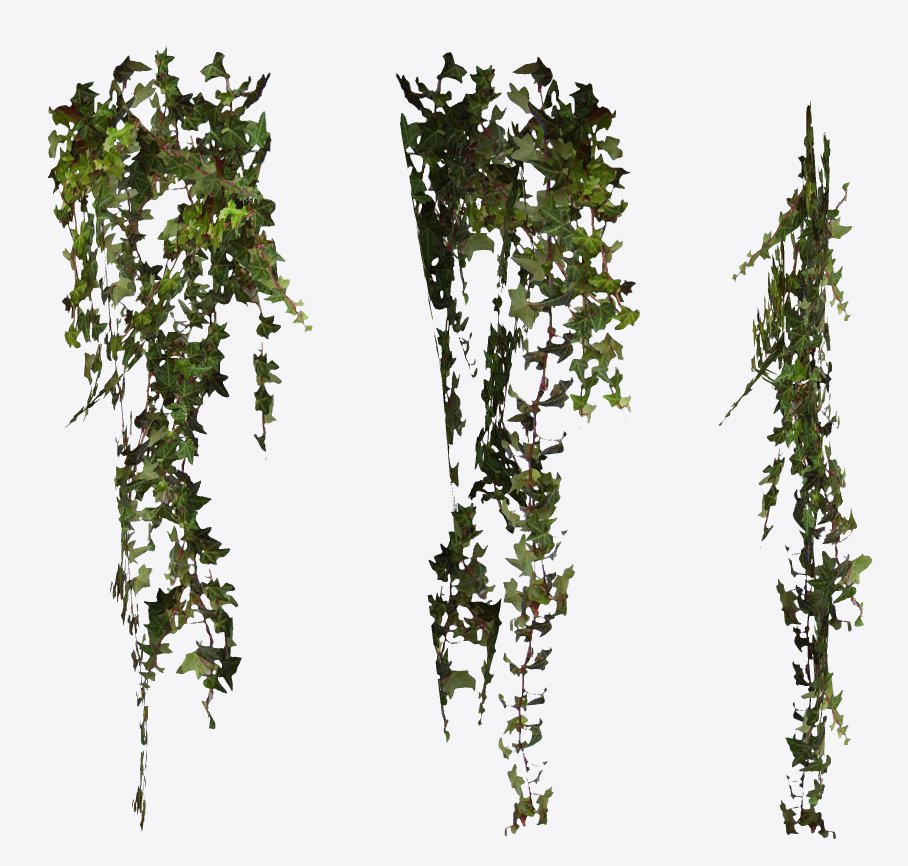
File: ivy10_lod1.fbx
3 renders of one model, left to right at view 1: azimuth 30°, elevation 25°; view 2: azimuth 150°, elevation 25°; view 3: azimuth 270°, elevation 25°, orthographic. The views are drawn at different scales.
Visible parts, largest first — view 1: Mesh Object; view 2: Mesh Object; view 3: Mesh Object.
Boxes of the visible parts, box(x1,y1,x2,y2) form: Mesh Object: box(48, 47, 312, 831); Mesh Object: box(396, 52, 639, 836); Mesh Object: box(719, 100, 872, 838).
Bounding box in the file's own units: 0.7712 × 2.11 × 0.4624.
